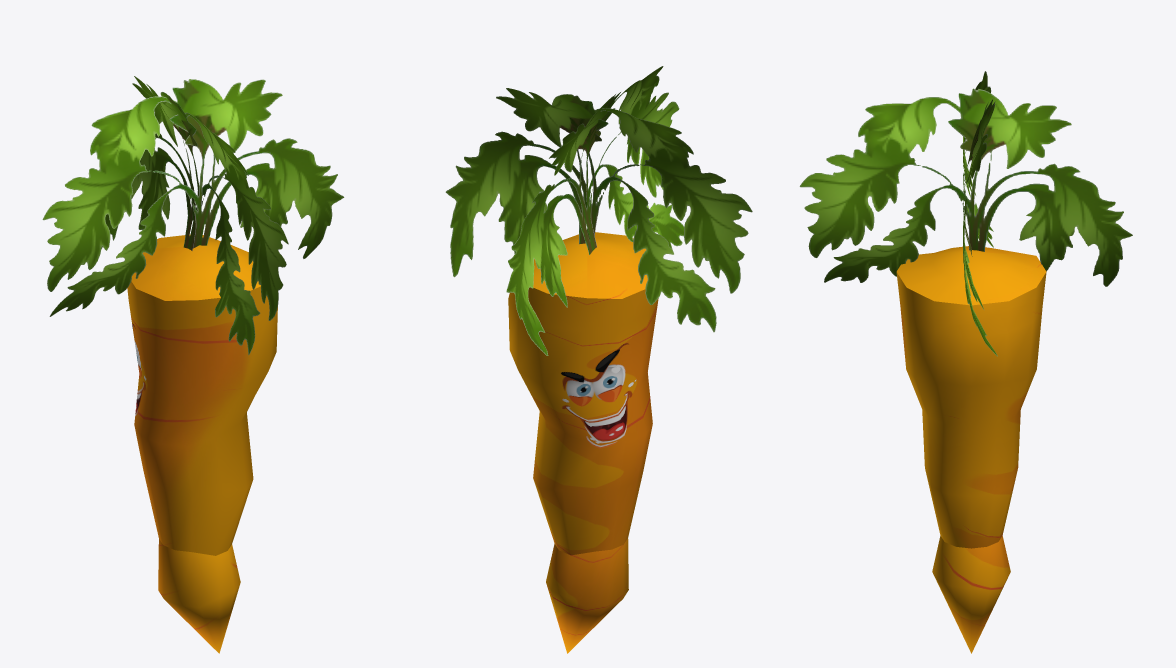
The model's file is Carrot.FBX.
The picture shows the model from 3 angles, left to right: view 1: azimuth 30°, elevation 25°; view 2: azimuth 150°, elevation 25°; view 3: azimuth 270°, elevation 25°; orthographic projection. The views are drawn at different scales.
Parts seen in each view (by area): view 1: Carrot, Carrot_leaves (×2); view 2: Carrot, Carrot_leaves (×2); view 3: Carrot, Carrot_leaves (×2).
Part boxes in pixels (x1,y1,x2,y2): Carrot: (127, 234, 277, 653); Carrot_leaves (×2): (42, 76, 344, 355); Carrot: (508, 232, 658, 653); Carrot_leaves (×2): (445, 66, 752, 355); Carrot: (896, 246, 1046, 653); Carrot_leaves (×2): (799, 71, 1132, 356).
Bounding box in the file's own units: 19.3 × 31.67 × 19.3.
1 material, 1 textured.
